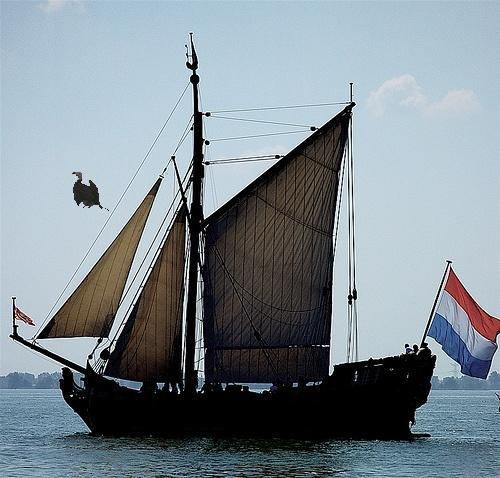tampered: (73, 173, 127, 211)
